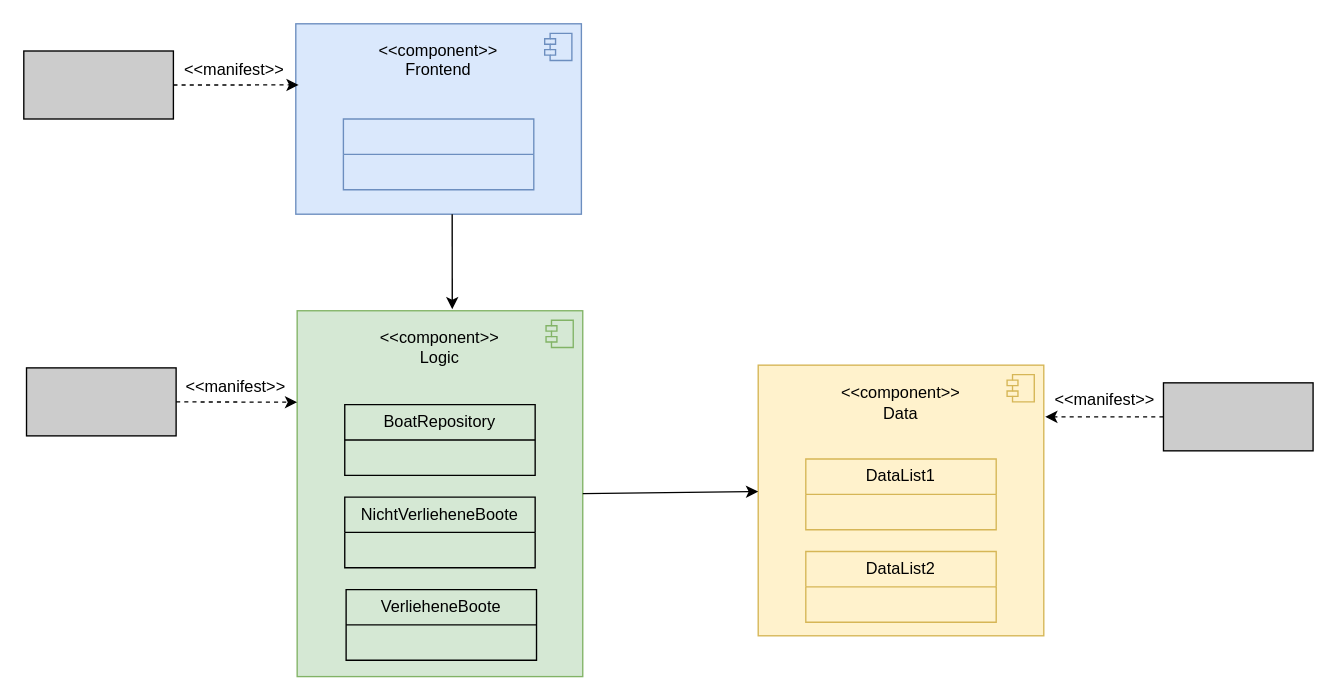
The diagram is 1337 pixels wide and 700 high, and some of its shapes have lost their labels. Each missing label, with the centre of its shape:
<<artifact>> Data.jar: point (1237, 416)
<<artifact>> Frontend.jar: point (97, 84)
<<artifact>> Logic.jar: point (100, 401)
GUI: point (438, 154)
